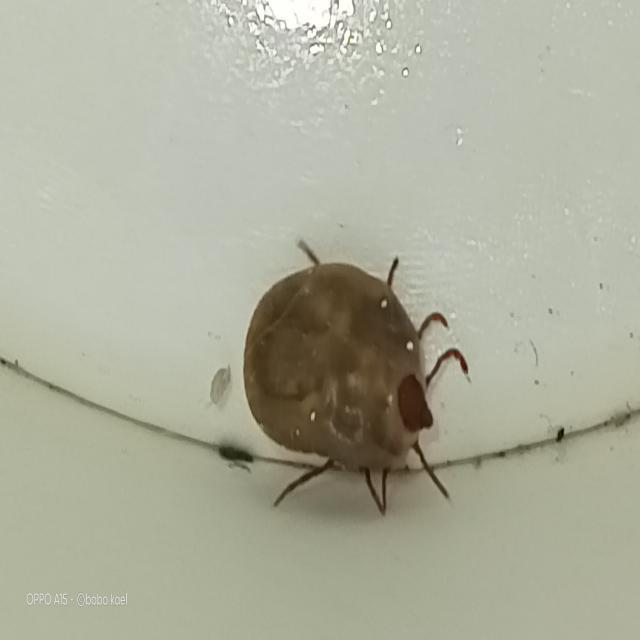Rhipicephalus Sanguineus-F-Fed: (242, 239, 472, 517)
